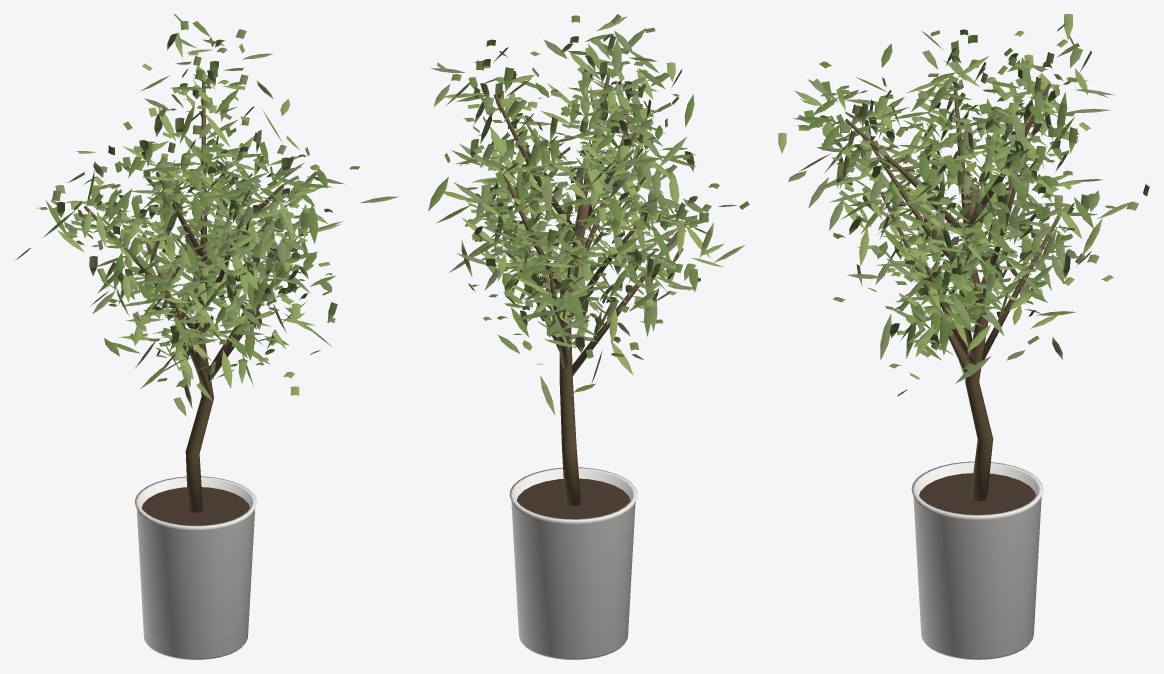
Rendered from plant.glb.
3 views of the same model, side by side, from view 1: azimuth 30°, elevation 25°; view 2: azimuth 150°, elevation 25°; view 3: azimuth 270°, elevation 25° (orthographic). The views are drawn at different scales.
Visible parts, largest first — view 1: plant_leaves, plant_pot, plant_trunk, plant_soil; view 2: plant_leaves, plant_pot, plant_trunk, plant_soil; view 3: plant_leaves, plant_pot, plant_trunk, plant_soil.
Boxes of the visible parts, x1,y1,x2,y2 form: plant_leaves: (15, 14, 398, 416); plant_pot: (135, 476, 256, 659); plant_trunk: (84, 80, 286, 512); plant_soil: (142, 487, 249, 525); plant_leaves: (428, 14, 749, 415); plant_pot: (509, 467, 637, 659); plant_trunk: (493, 68, 687, 506); plant_soil: (517, 478, 630, 519); plant_leaves: (778, 14, 1149, 396); plant_pot: (911, 461, 1043, 659); plant_trunk: (845, 83, 1060, 501); plant_soil: (919, 473, 1035, 514).
Size of the model in its own units: 0.8311 by 1.63 by 0.8671.
